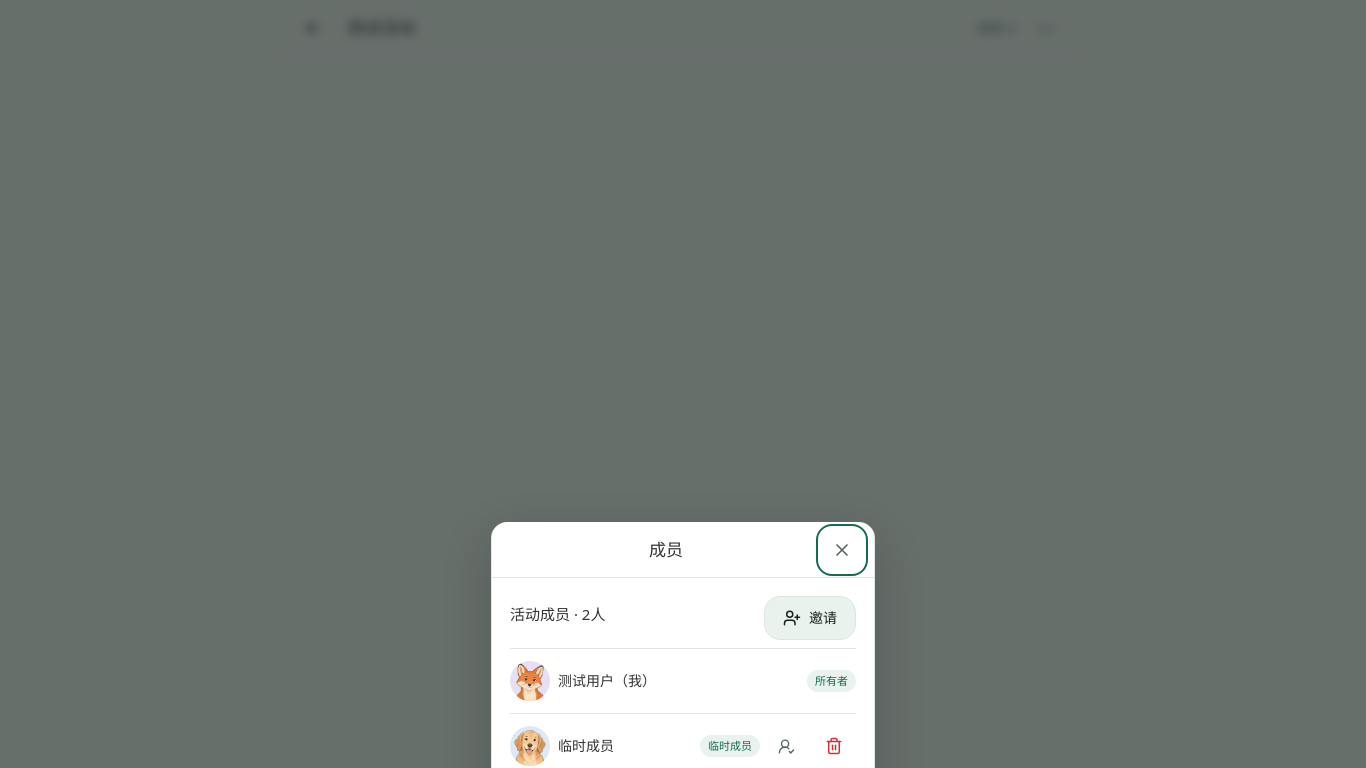
Test: 成员 Overlay › 添加临时成员按需展开，失败保留输入，成功后收起
Expected: the field labelled "临时成员名称" is not shown
Click the button "邀请" at (810, 618), box [764,596,856,640]
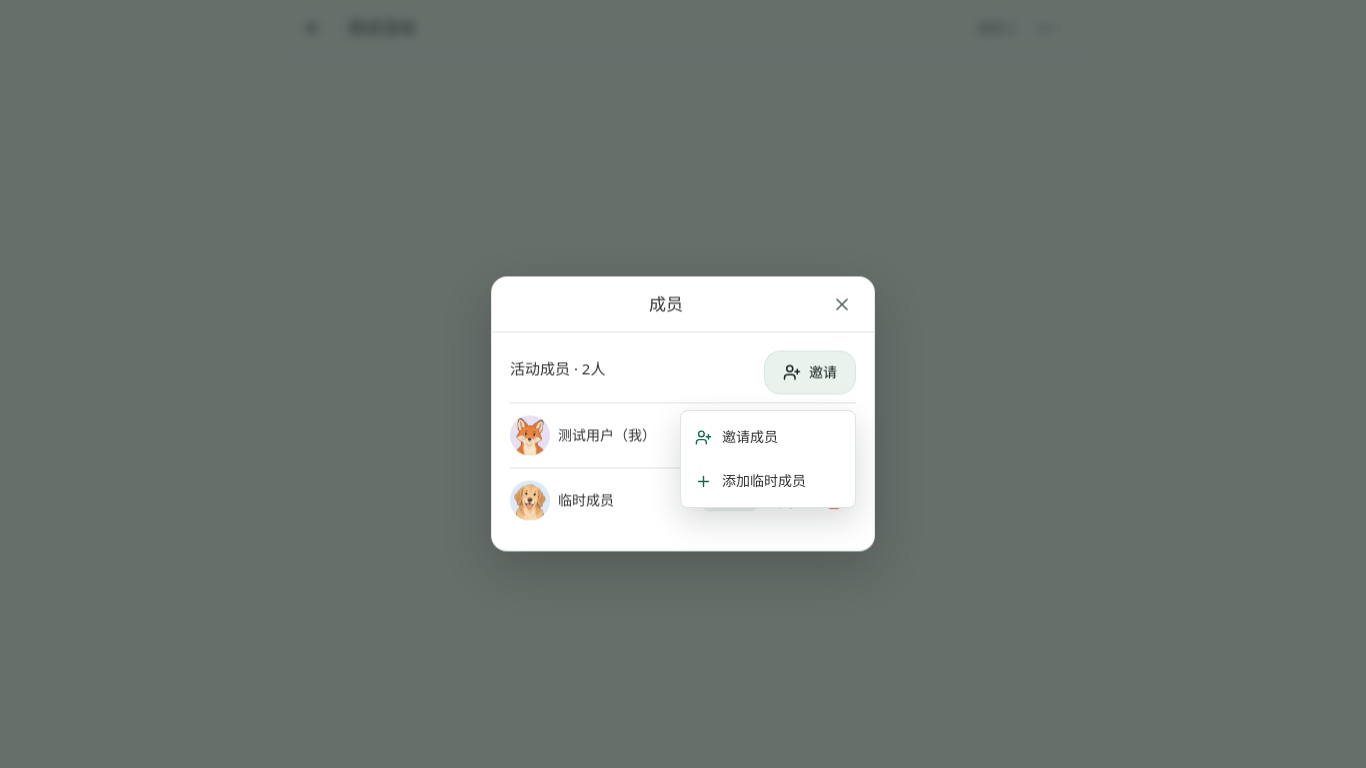
Click the menu item "添加临时成员" at (750, 481), box [695,471,806,490]
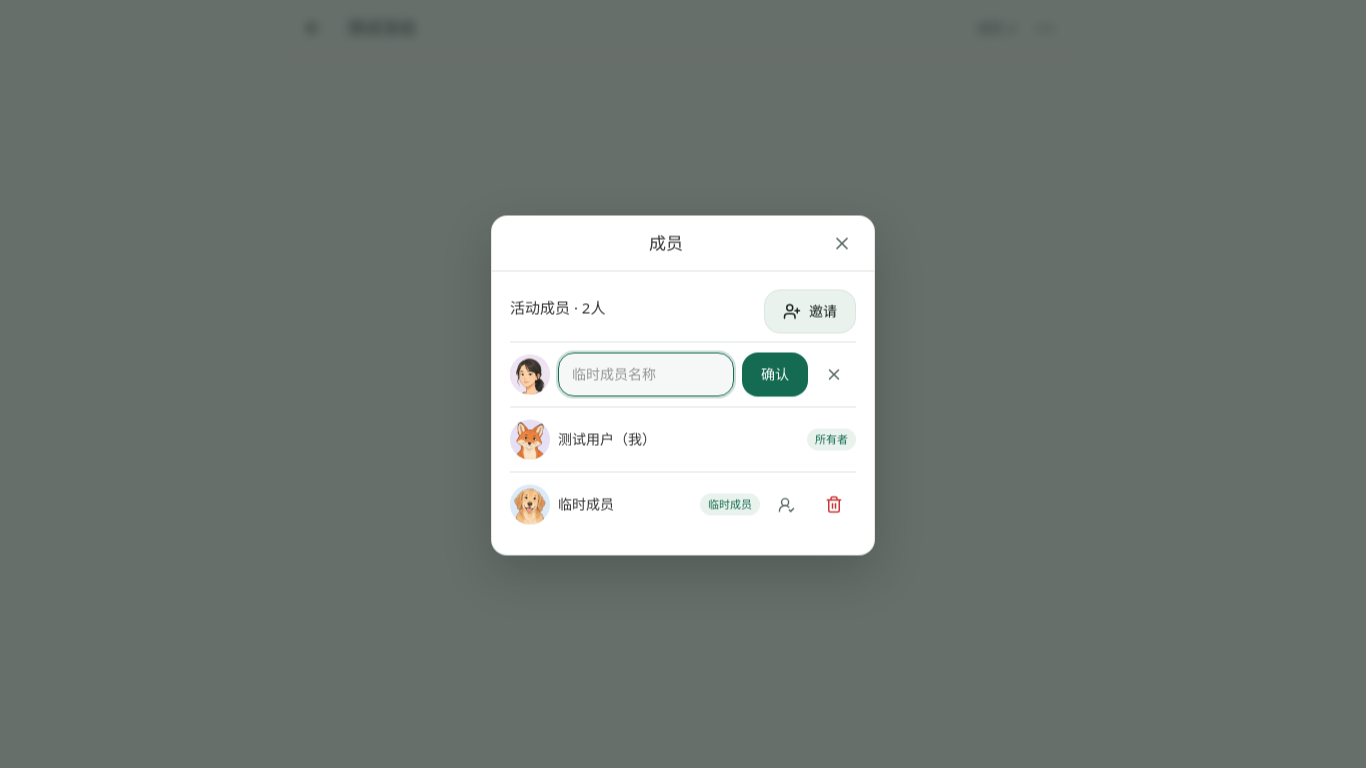
Expected: the form with class "member-entry--draft" is shown, [510,342,856,408]
Expected: the field with placeholder "临时成员名称" is shown
Type "新成员" into the field labelled "临时成员名称" at (646, 374), box [558,352,734,396]
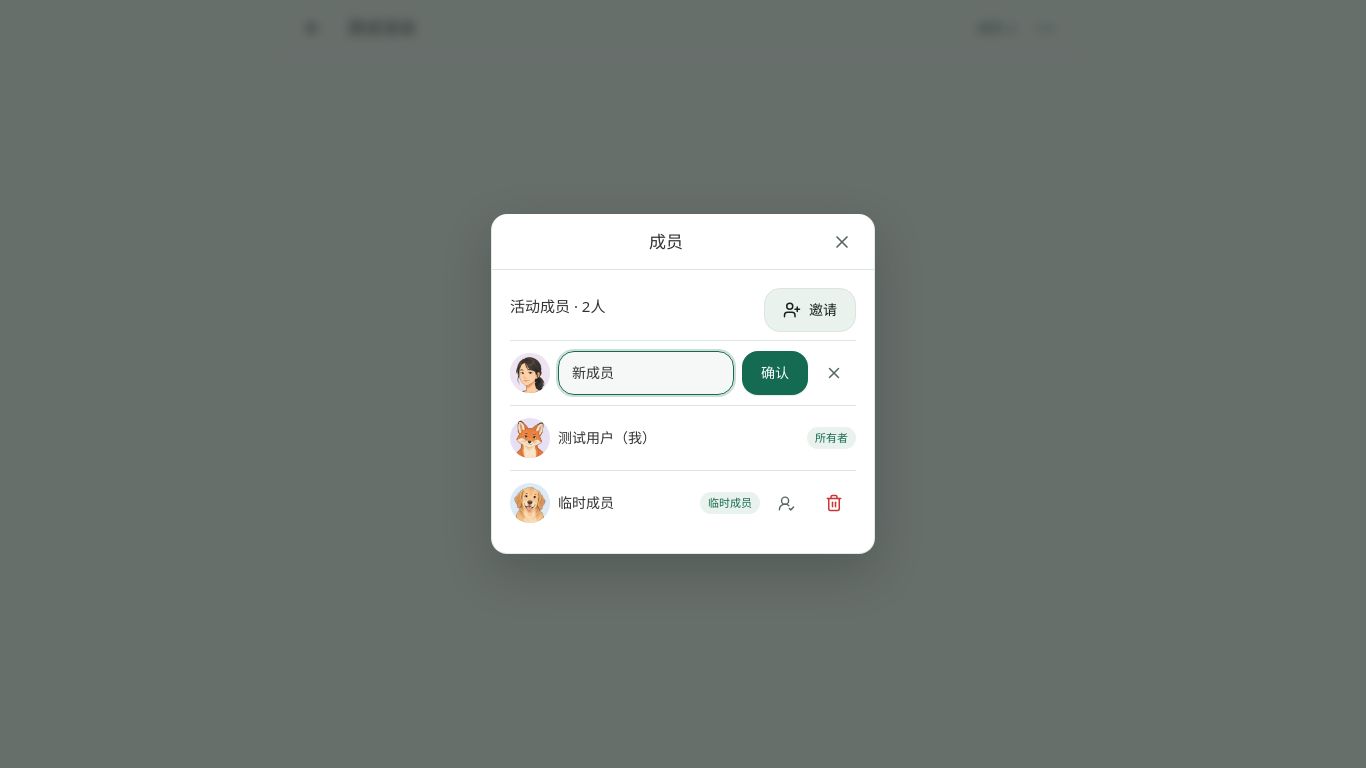
Click the button "确认" at (775, 373), box [742,351,808,395]
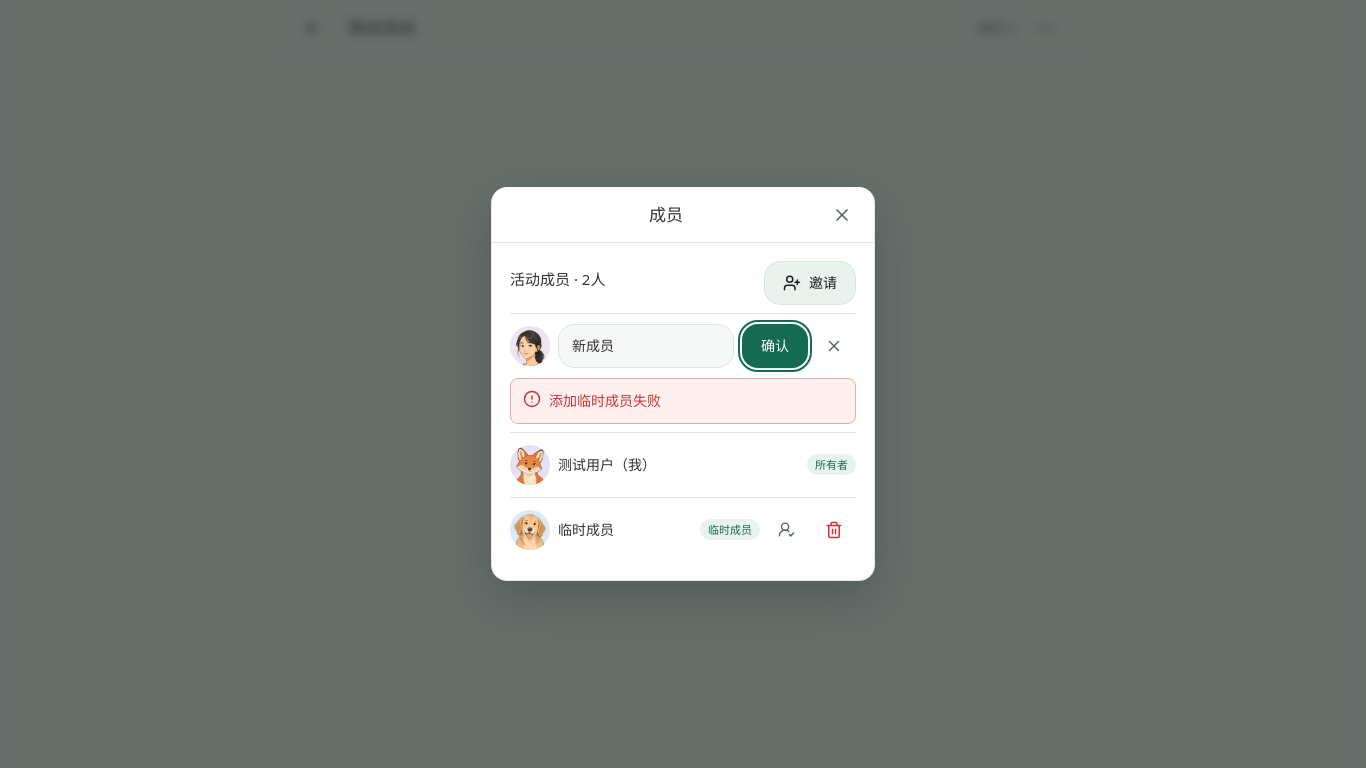
Expected: the message reads "添加临时成员失败", [549,391,661,410]
Click the button "确认" at (775, 346), box [742,324,808,368]
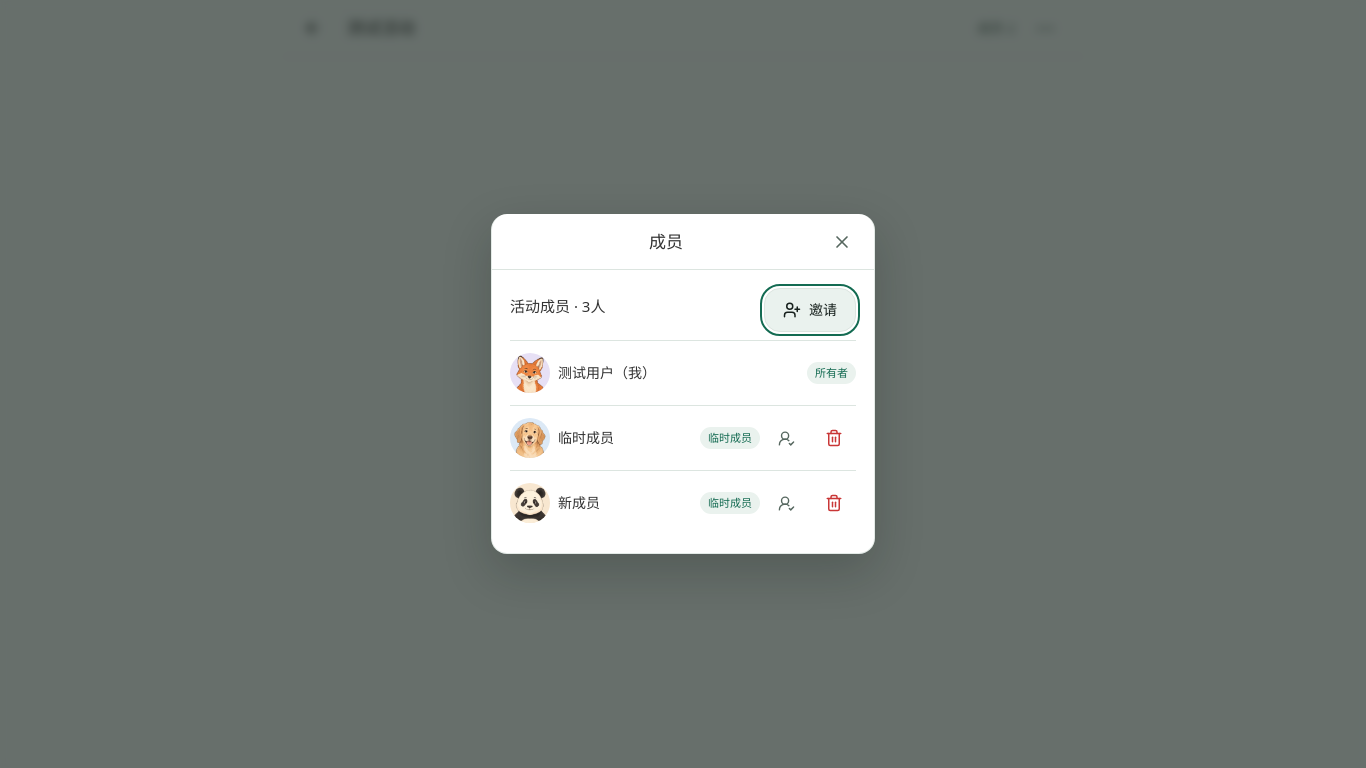
Expected: the field labelled "临时成员名称" is gone
Expected: the text "新成员" is shown, [558,493,600,512]
